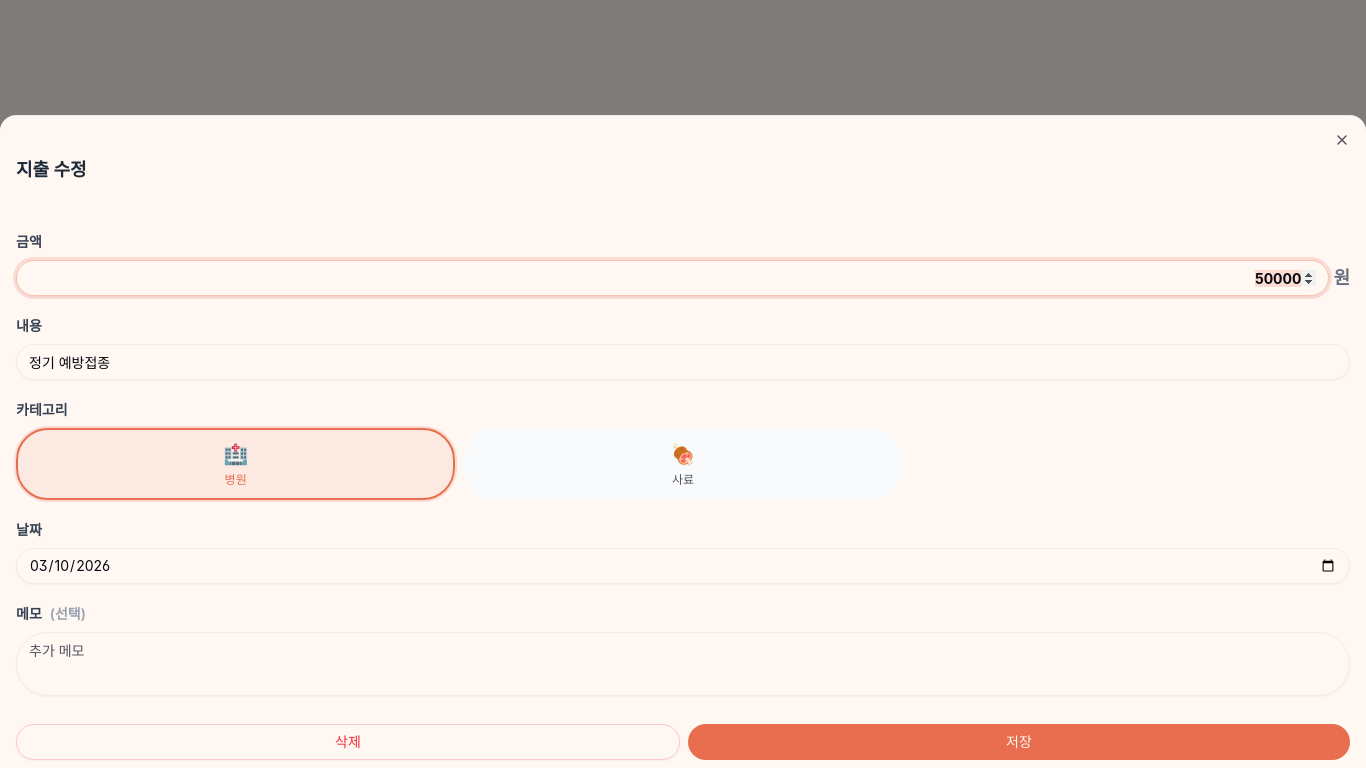
Scenario: ExpenseEditSheet › 저장 버튼 › description이 비어있으면 저장 버튼이 비활성화된다
This screenshot has width=1366, height=768.
Step 1. Clear the field with placeholder "예: 정기 예방접종" → (683, 362), box [16,344,1350,380]
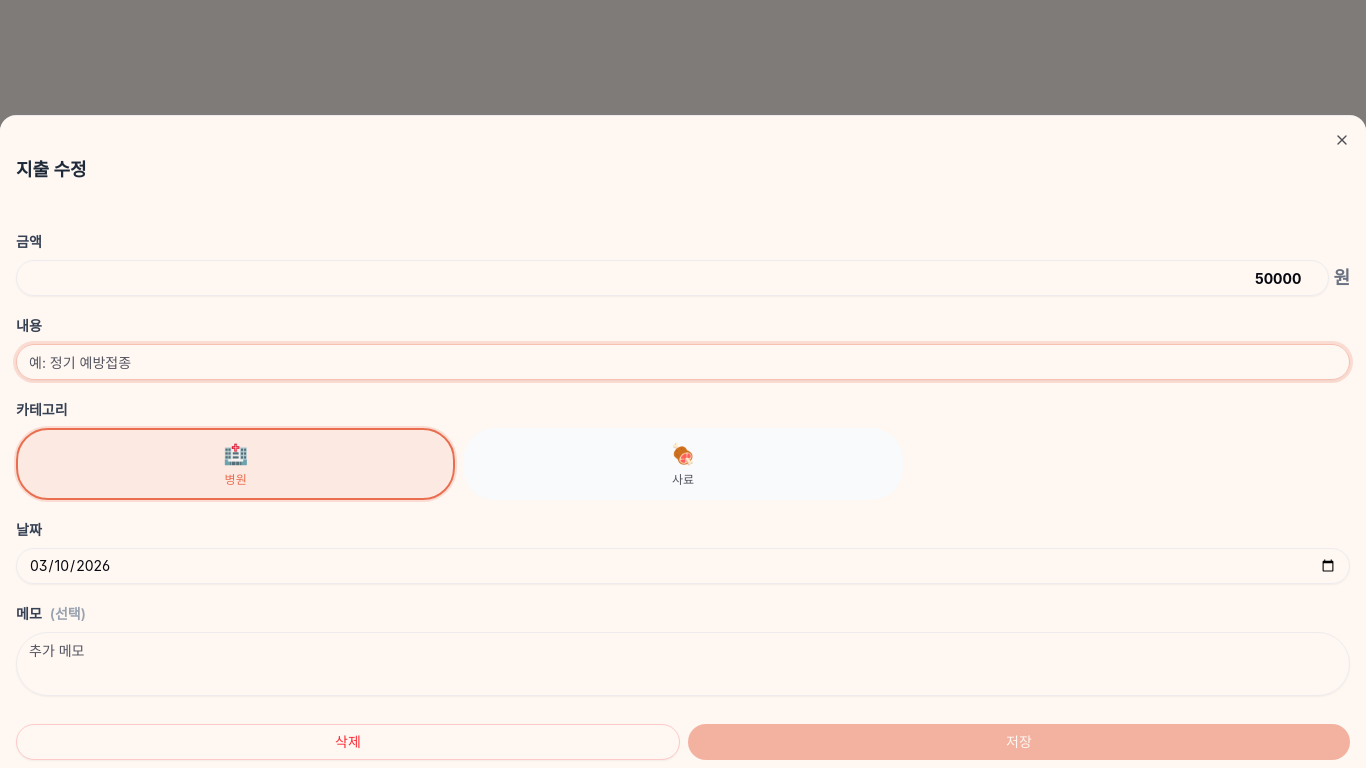
Now the button "저장" is disabled, box [688,724,1350,760]
